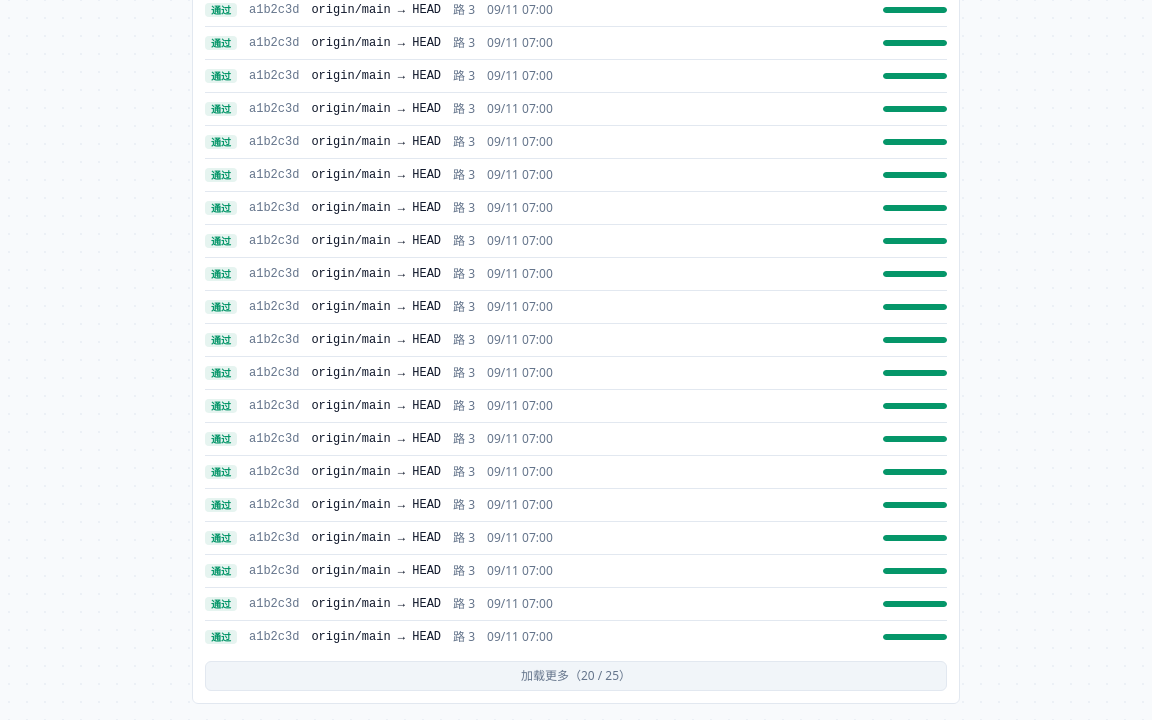
CiGateView (v0.26-B ticket 02 — 三段化：运行并记录 + 门禁运行史) › paginates with limit/offset: 加载更多 appends the next page and hides at the tail
The image size is (1152, 720).
(page scrolled)
Step 1. Click the button with test id "gate-history-more" → (576, 676), box left=205, top=660, right=947, bottom=690
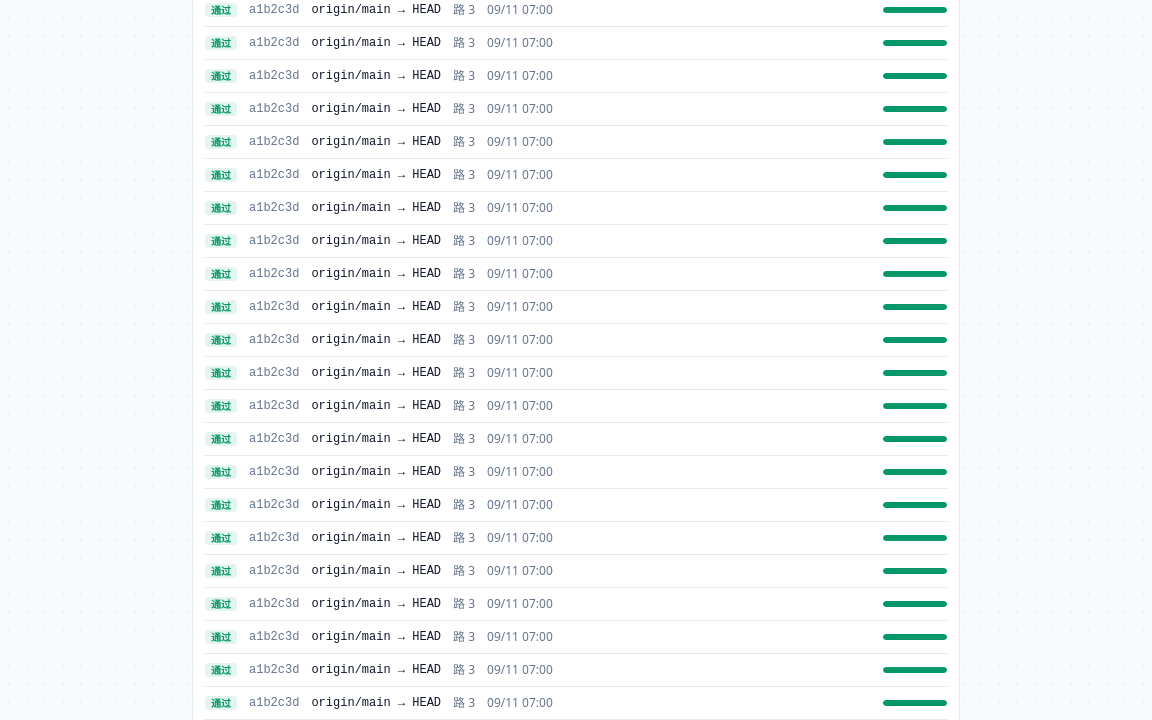
Expected: the button with test id "gate-history-more" is gone
